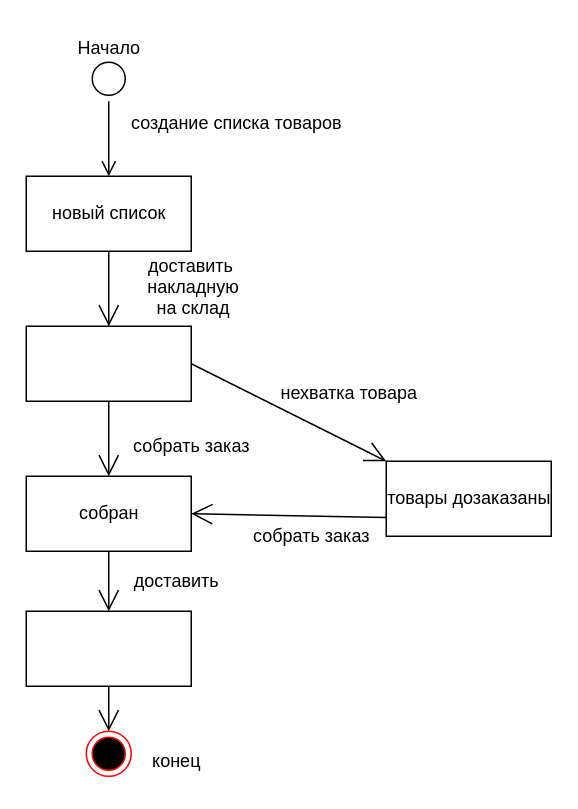
The diagram is 578 pixels wide and 809 high, and some of its shapes have lost their labels. Each missing label, with the centre of its shape:
"доставлена" goes at [108,363].
"доставлено" goes at [108,648].
